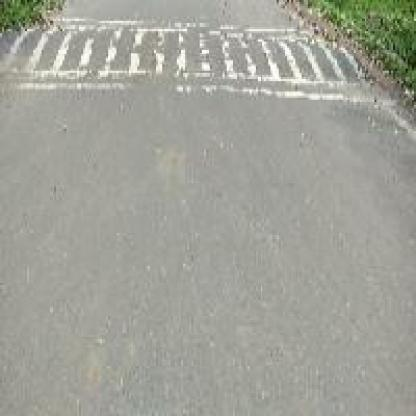Speed Bump: (0, 19, 370, 108)
